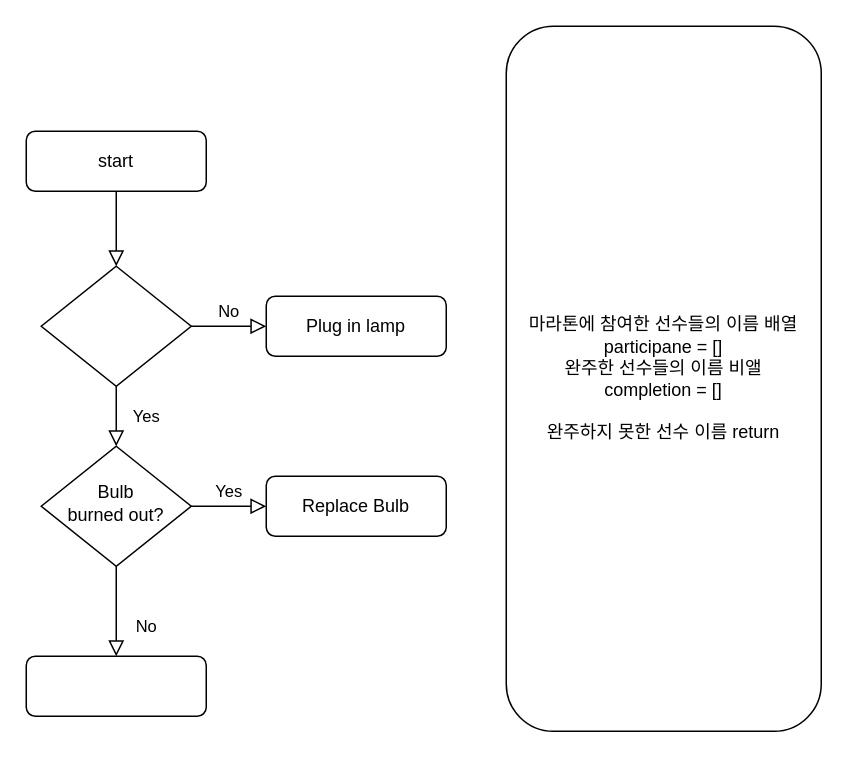
Image size: 848x758. Some labels were removed from this diagram. Each missing label, with the centre of its shape:
Lamp plugged in?: the point at 115,325
Repair Lamp: the point at 115,685
